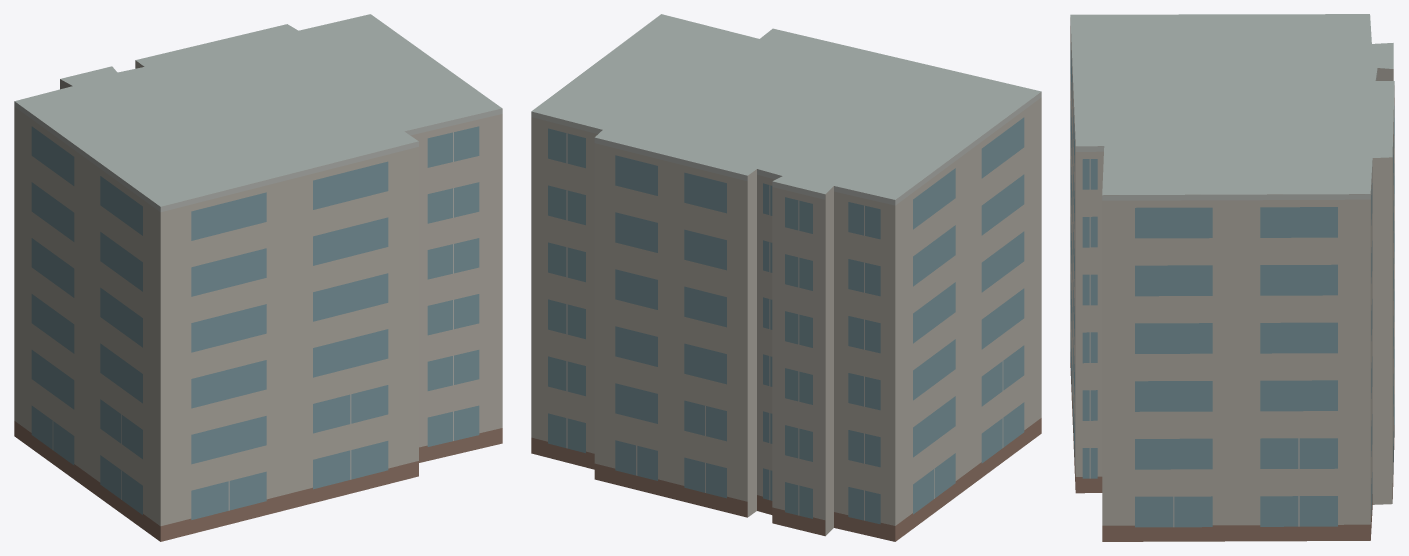
File: survey-upis-32573453.glb
The picture shows the model from 3 angles, left to right: view 1: azimuth 30°, elevation 25°; view 2: azimuth 150°, elevation 25°; view 3: azimuth 270°, elevation 25°; orthographic projection. The views are drawn at different scales.
Visible parts, largest first — view 1: survey-upis-32573453.tmp; view 2: survey-upis-32573453.tmp; view 3: survey-upis-32573453.tmp.
Part boxes in pixels (x1=…): survey-upis-32573453.tmp: x1=14, y1=14, x2=502, y2=541; survey-upis-32573453.tmp: x1=531, y1=14, x2=1041, y2=541; survey-upis-32573453.tmp: x1=1070, y1=14, x2=1394, y2=541.
Size of the model in its own units: 16.7 by 14.9 by 12.64.
